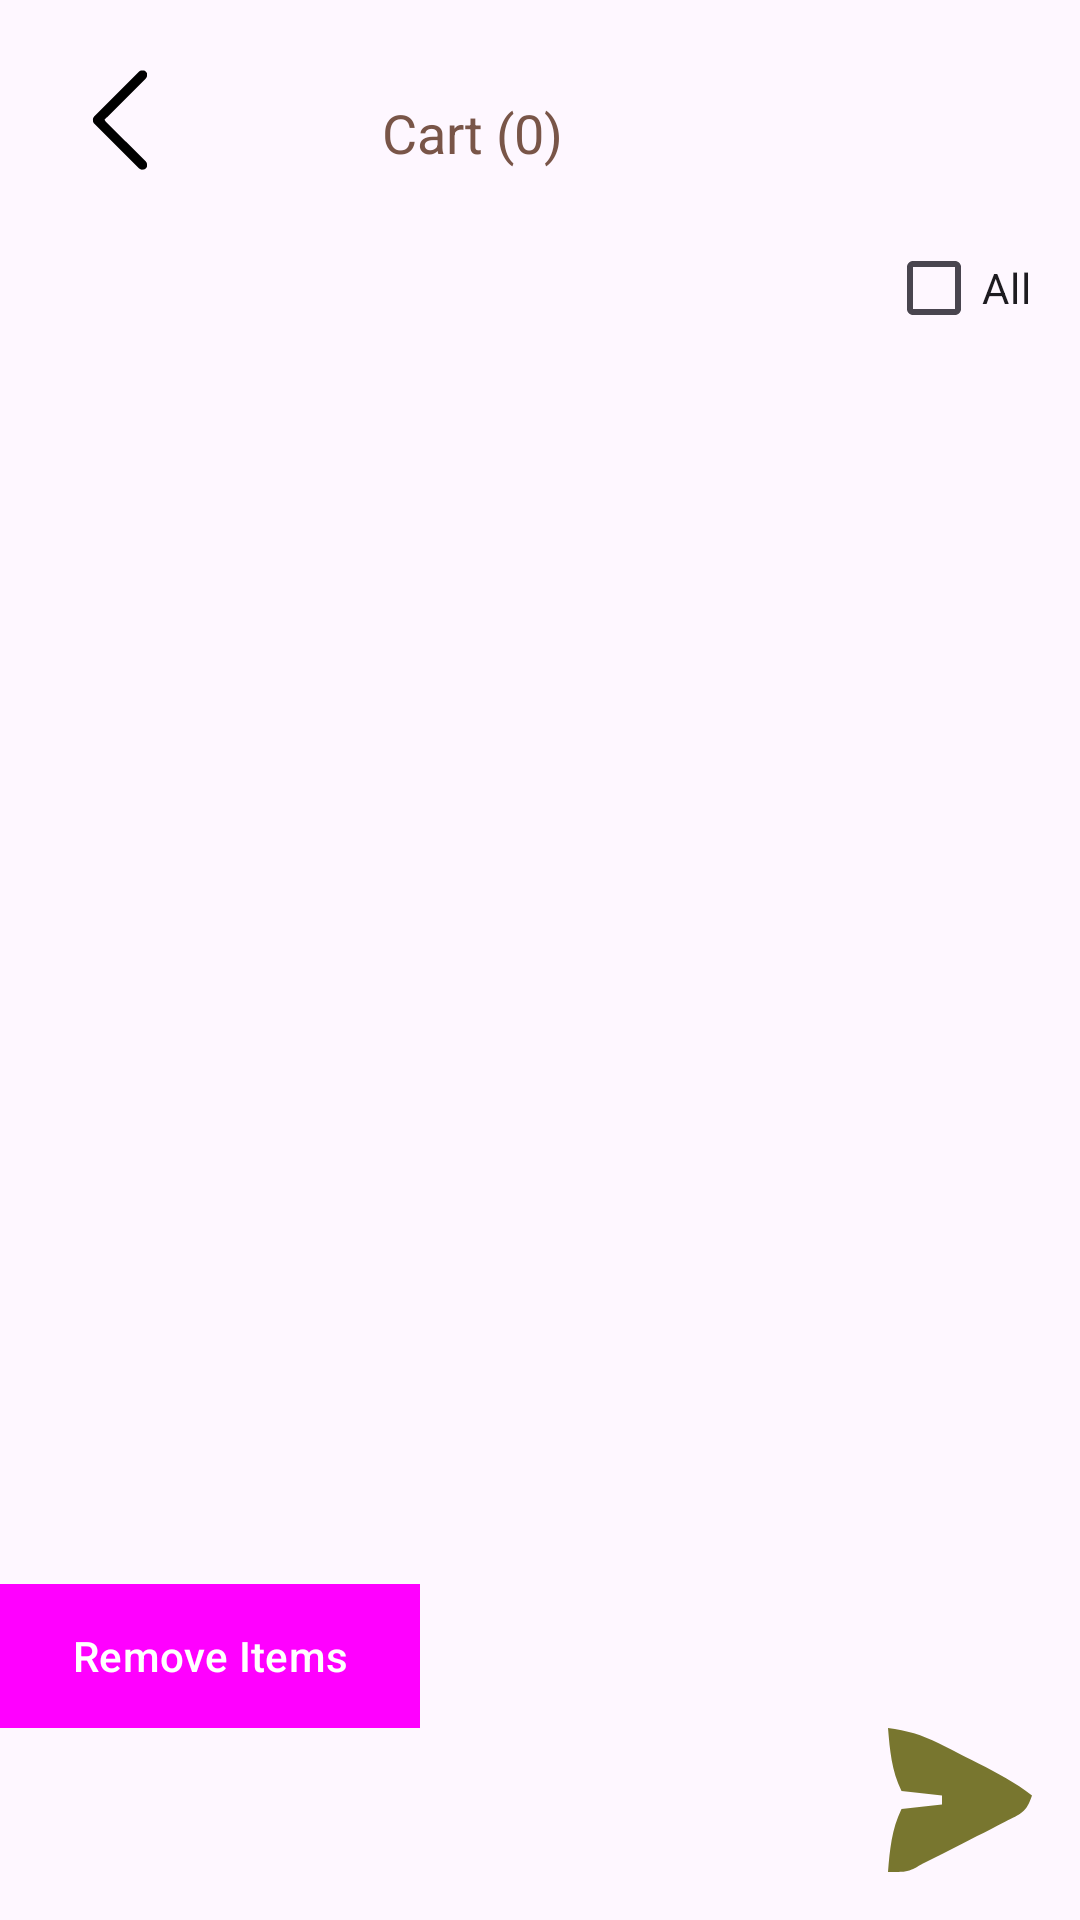

Locate icon controls on the screen. Image size 1080px×1920px, boxes as (x1, y1, x2, y2).
left: (93, 70, 147, 170)
send message: (888, 1728, 1032, 1872)
